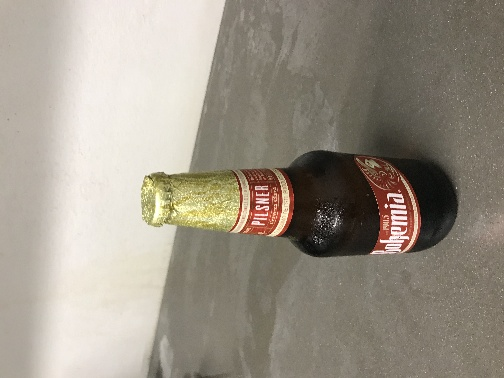BPB: (93, 115, 321, 173)
